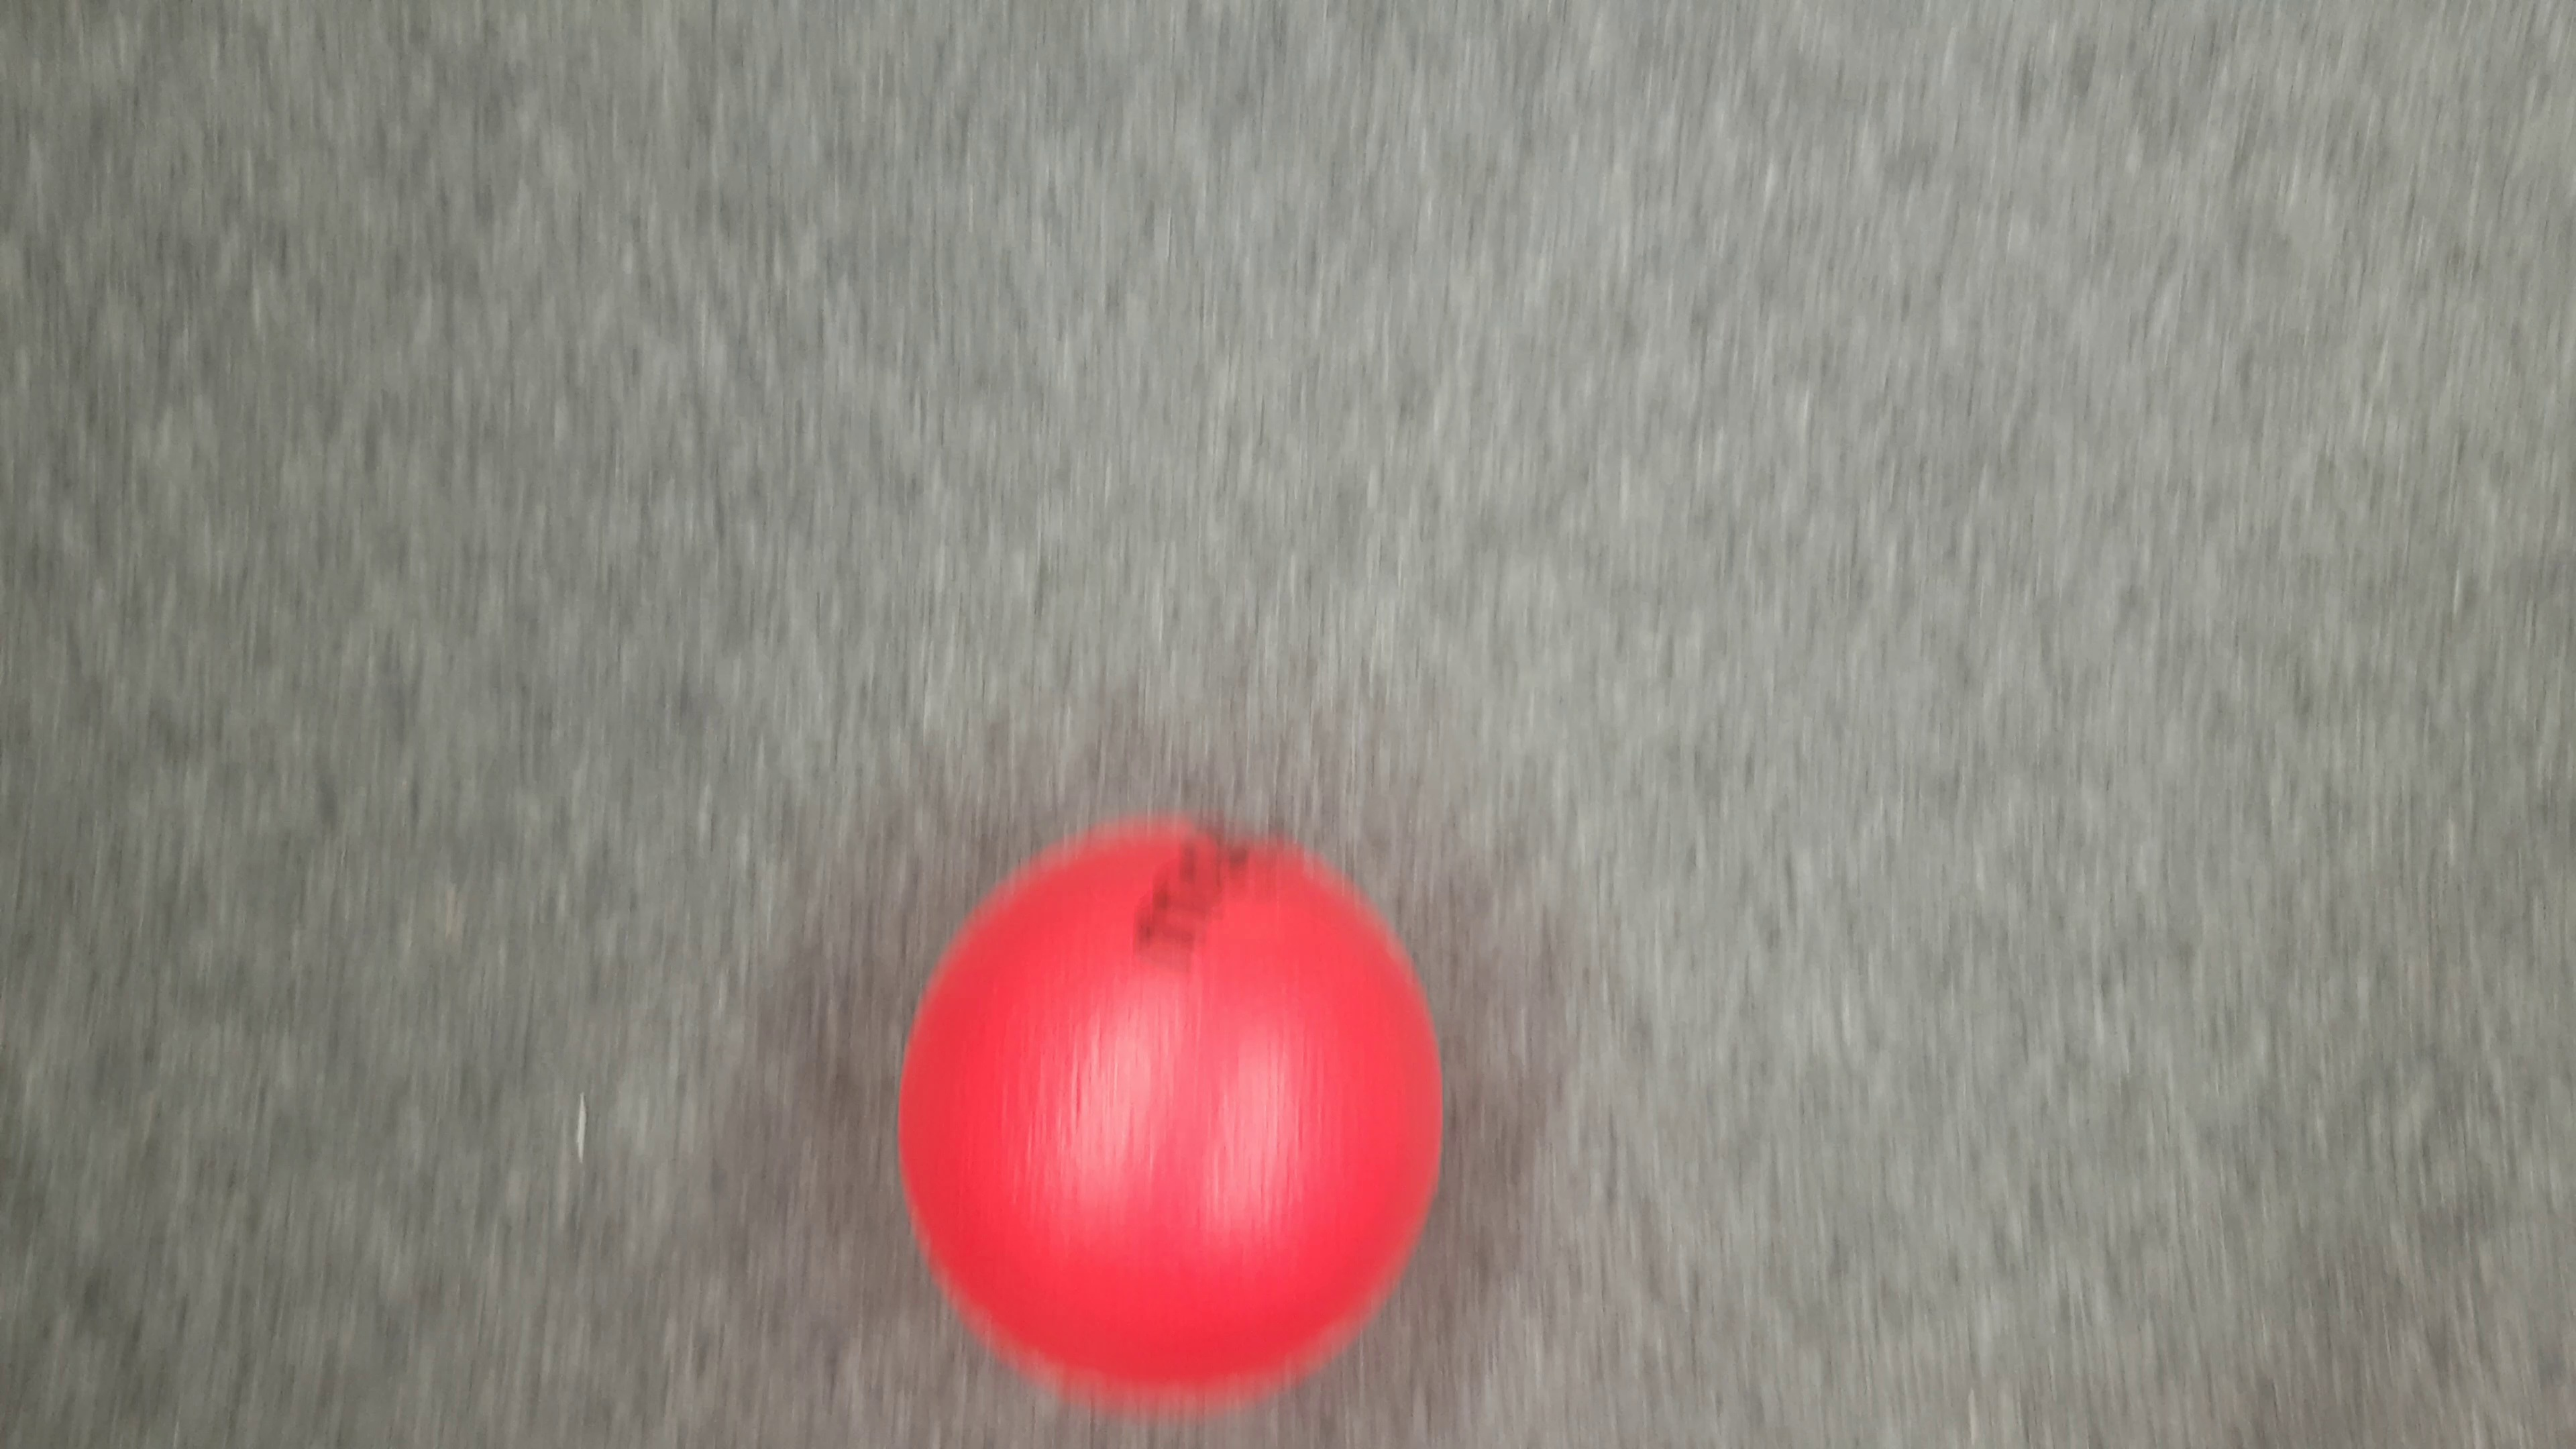kick: (885, 828, 1451, 1394)
